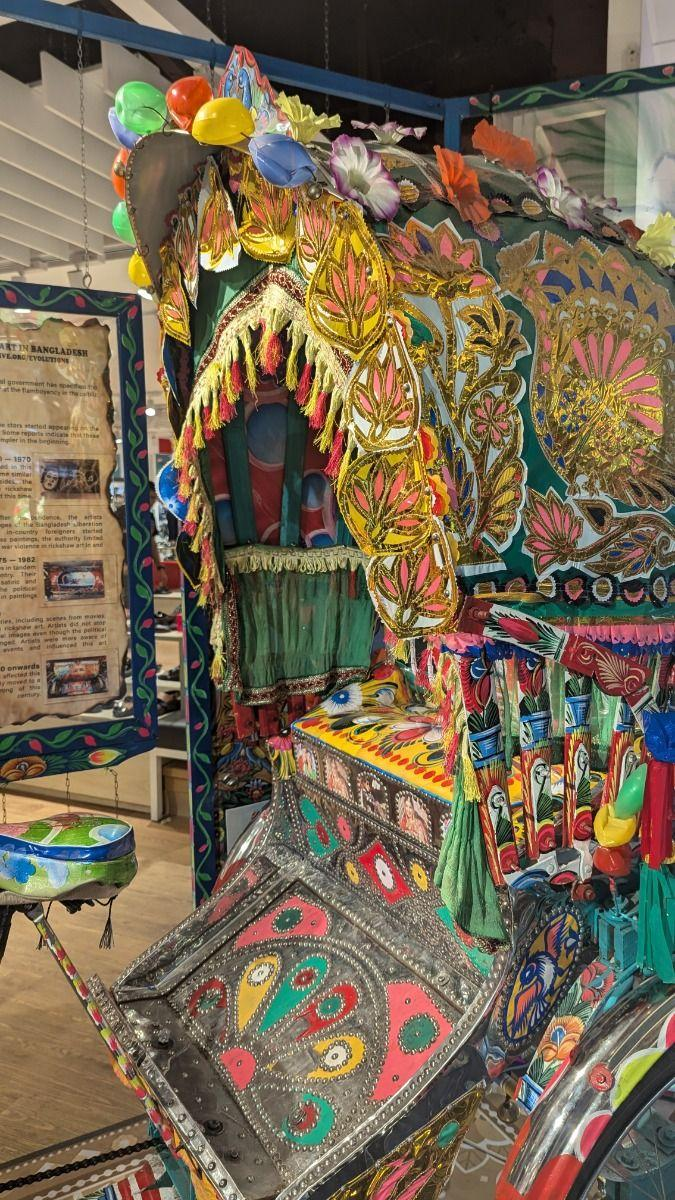Rickshaw: (0, 38, 674, 1200)
